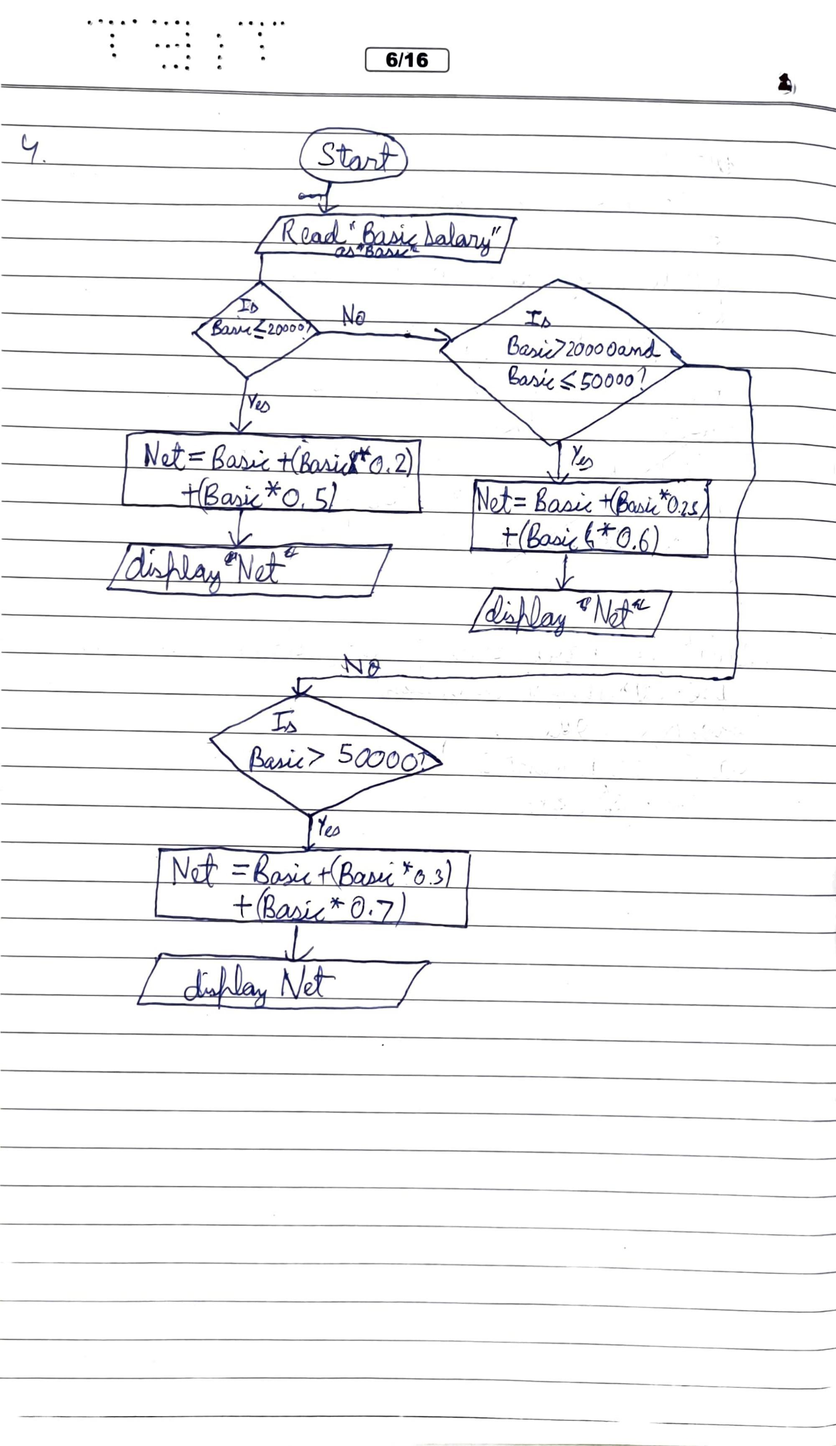cuttings: (581, 519, 597, 549), (631, 597, 652, 611), (576, 596, 593, 613), (222, 550, 238, 567), (283, 546, 299, 560)
